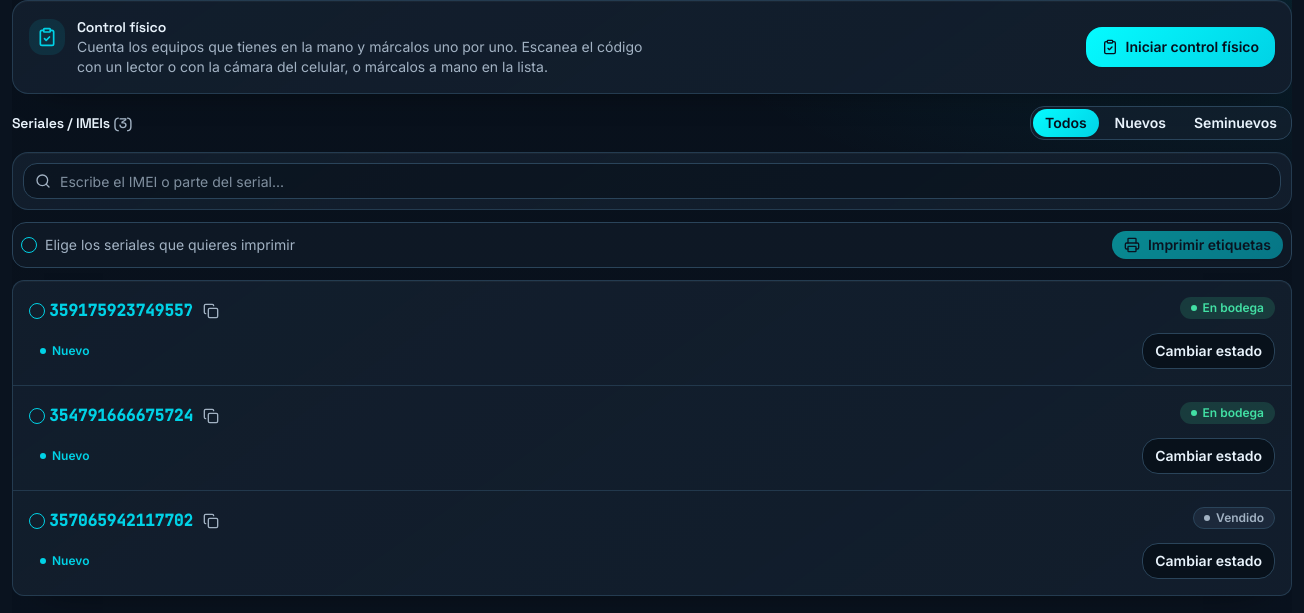
it: Detalle de producto · búsqueda instantánea de seriales › filtra en tiempo real por cualquier fragmento del IMEI y restaura la lista al borrar
This screenshot has width=1304, height=613.
Type "6666" into the search field named "Buscar serial o IMEI en esta referencia".
click(652, 181); type("6666")  # box x1=23 y1=163 x2=1281 y2=199
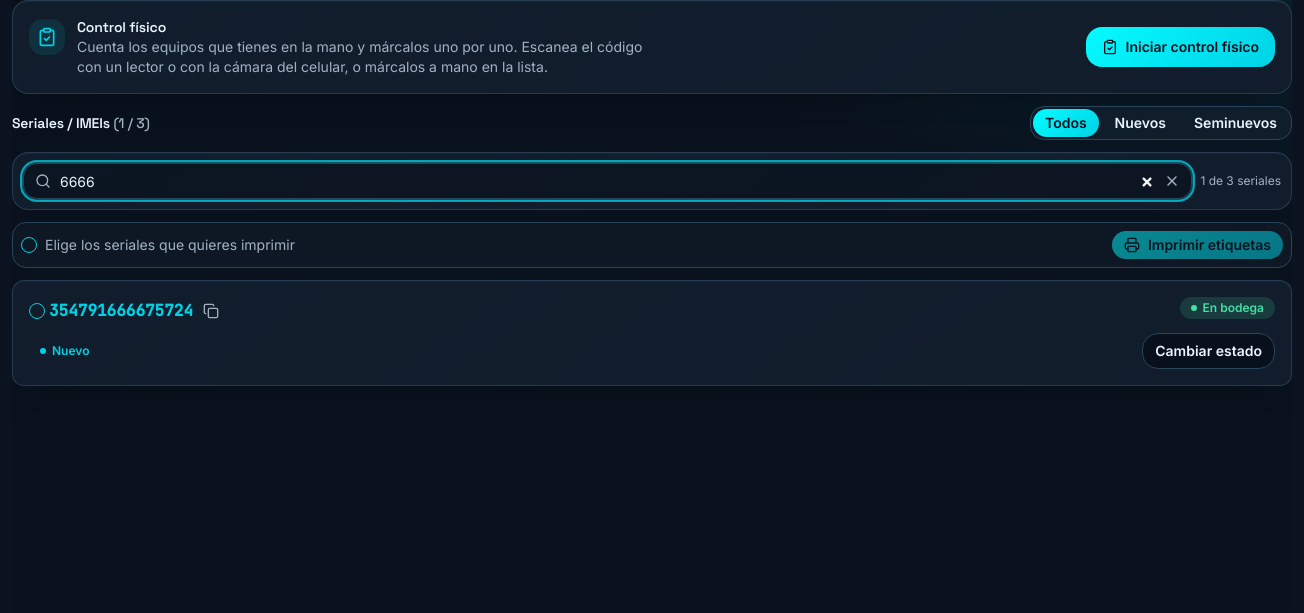
Expected: the button "359175923749557" is gone
Expected: the button "357065942117702" is gone
Expected: the text "1 de 3 seriales" is shown, x1=1200 y1=173 x2=1281 y2=189
Clear the search field named "Buscar serial o IMEI en esta referencia" at (608, 181), box x1=23 y1=163 x2=1192 y2=199
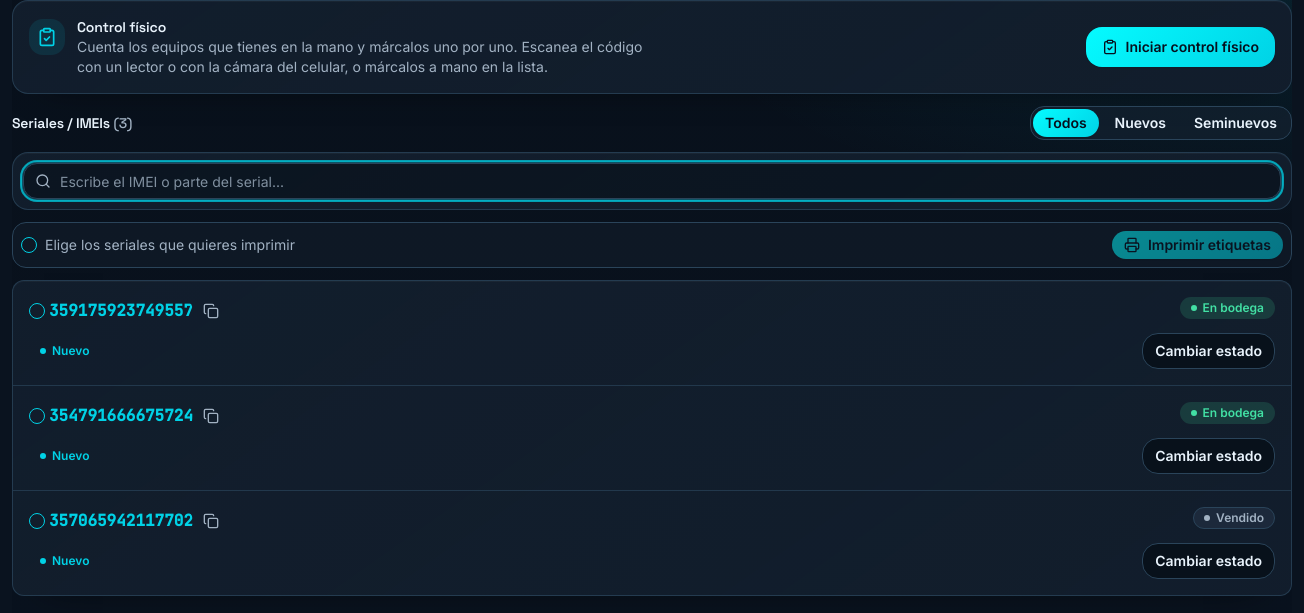
Expected: the button "354791666675724" is shown, x1=49 y1=404 x2=193 y2=428
Expected: the button "359175923749557" is shown, x1=49 y1=299 x2=193 y2=323
Expected: the button "357065942117702" is shown, x1=49 y1=509 x2=193 y2=533
